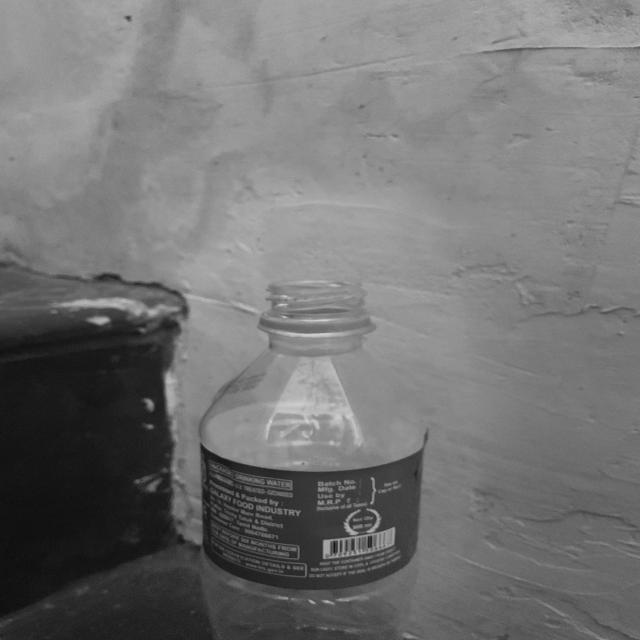open-cap: (262, 276, 376, 336)
